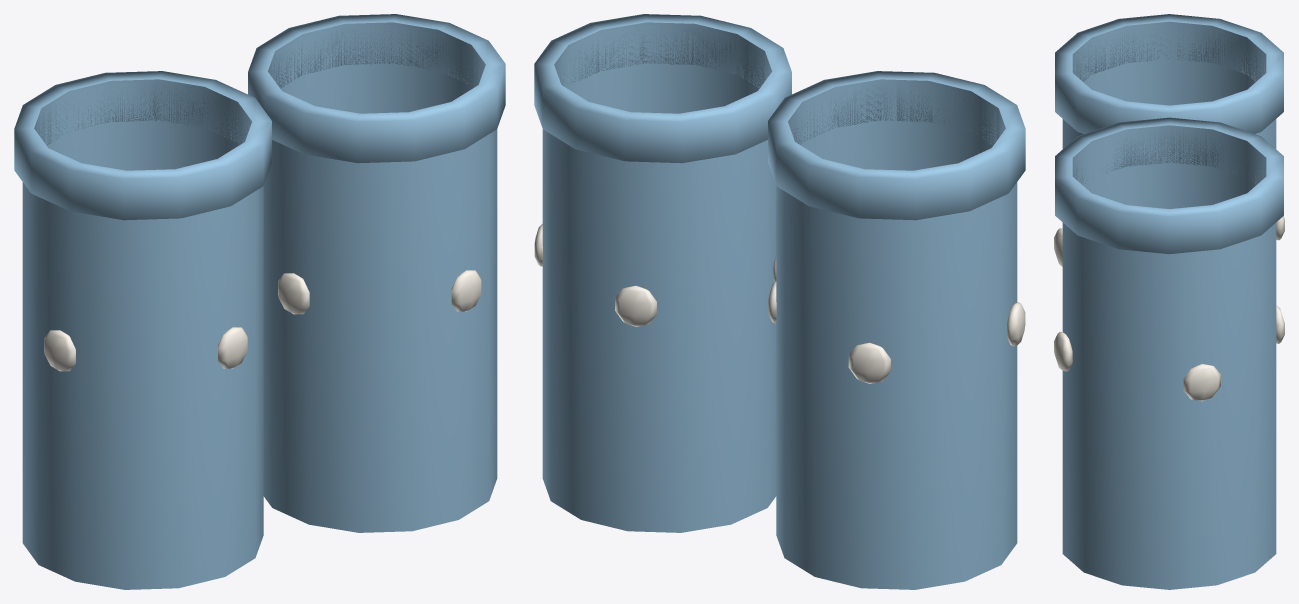
File: flowery_dot_tights.glb
3 renders of one model, left to right at view 1: azimuth 30°, elevation 25°; view 2: azimuth 150°, elevation 25°; view 3: azimuth 270°, elevation 25°, orthographic. The views are drawn at different scales.
Visible parts, largest first — view 1: flowery_dot_tights_LegL, flowery_dot_tights_LegR; view 2: flowery_dot_tights_LegL, flowery_dot_tights_LegR; view 3: flowery_dot_tights_LegR, flowery_dot_tights_LegL.
Part boxes in pixels (x1,y1,x2,y2): flowery_dot_tights_LegL: [14, 71, 271, 589]; flowery_dot_tights_LegR: [248, 14, 505, 532]; flowery_dot_tights_LegL: [768, 71, 1025, 589]; flowery_dot_tights_LegR: [534, 14, 791, 532]; flowery_dot_tights_LegR: [1054, 117, 1284, 589]; flowery_dot_tights_LegL: [1054, 14, 1284, 266].
Bounding box in the file's own units: 0.372 × 0.322 × 0.1789.
